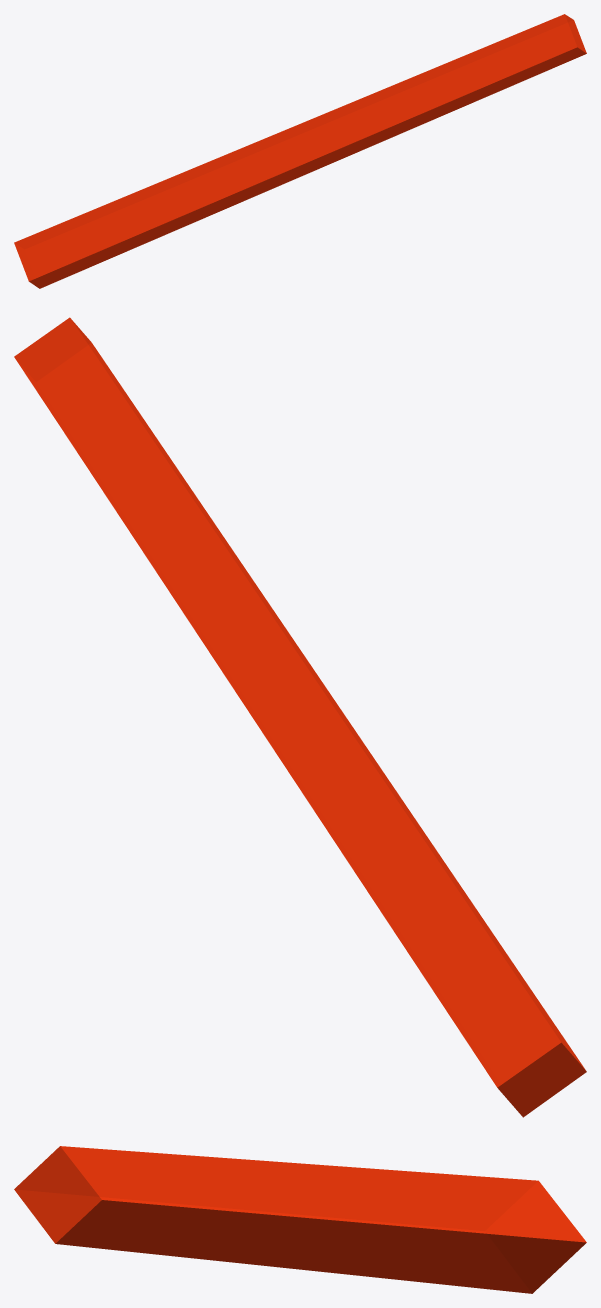
Rendered from Event_421364160_EBrechit_16.fbx.
3 renders of one model, top to bottom at view 1: azimuth 30°, elevation 25°; view 2: azimuth 150°, elevation 25°; view 3: azimuth 270°, elevation 25°, orthographic. The views are drawn at different scales.
Visible parts, largest first — view 1: Model; view 2: Model; view 3: Model.
Boxes of the visible parts, <box> form: Model: <box>14,14,586,288</box>; Model: <box>14,317,586,1117</box>; Model: <box>14,1146,586,1293</box>.
Size of the model in its own units: 0.7649 by 0.4561 by 0.4773.
